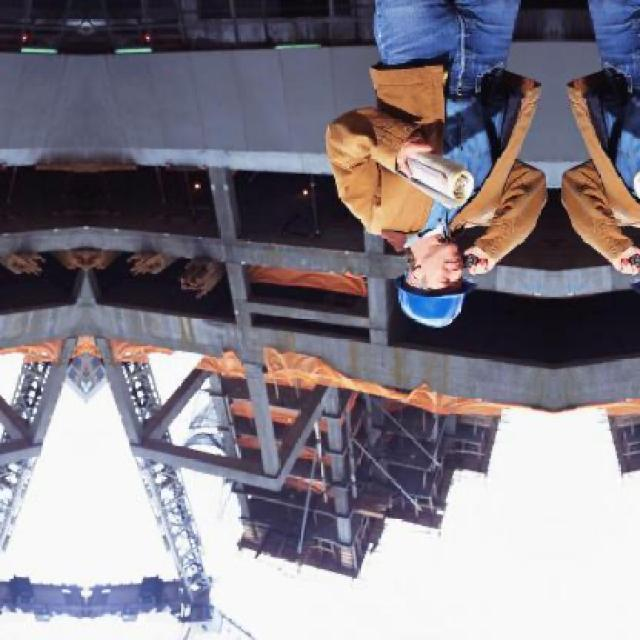con casco: (366, 174, 513, 358)
